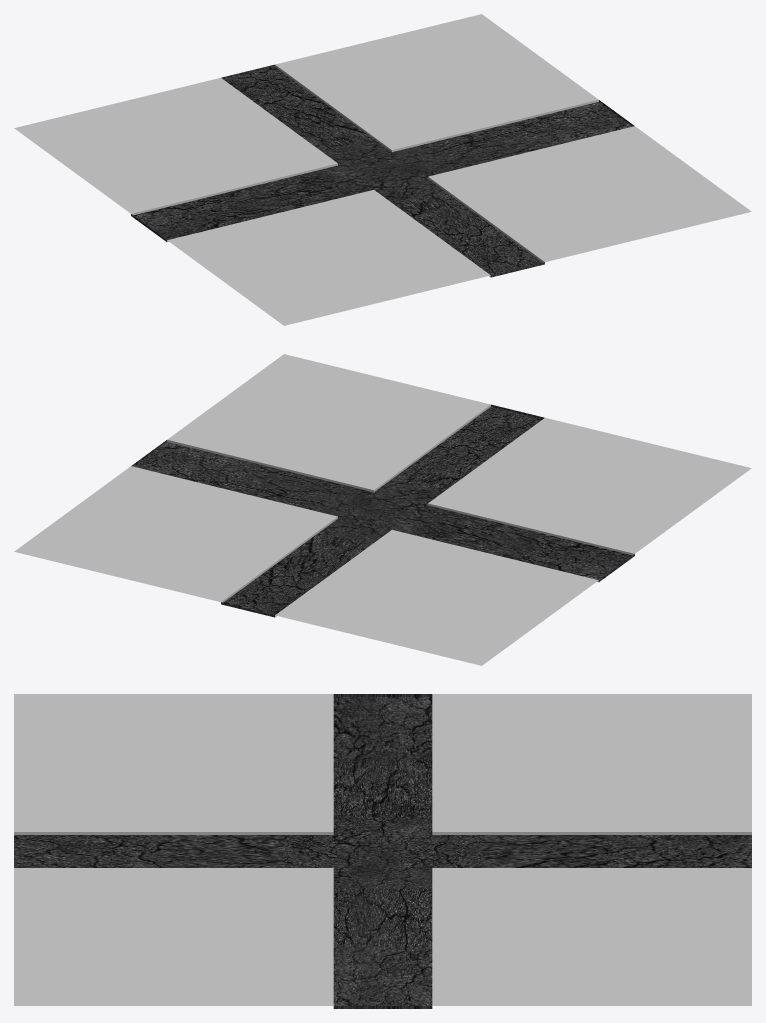
The model's file is Terreno.fbx.
3 renders of one model, top to bottom at view 1: azimuth 30°, elevation 25°; view 2: azimuth 150°, elevation 25°; view 3: azimuth 270°, elevation 25°, orthographic. The views are drawn at different scales.
Parts seen in each view (by area): view 1: SCENE_FLOOR; view 2: SCENE_FLOOR; view 3: SCENE_FLOOR.
Part boxes in pixels (x1,y1,x2,y2): SCENE_FLOOR: (14, 14, 751, 325); SCENE_FLOOR: (14, 354, 751, 665); SCENE_FLOOR: (14, 694, 751, 1008).
Size of the model in its own units: 59.29 by 0.2555 by 59.29.
